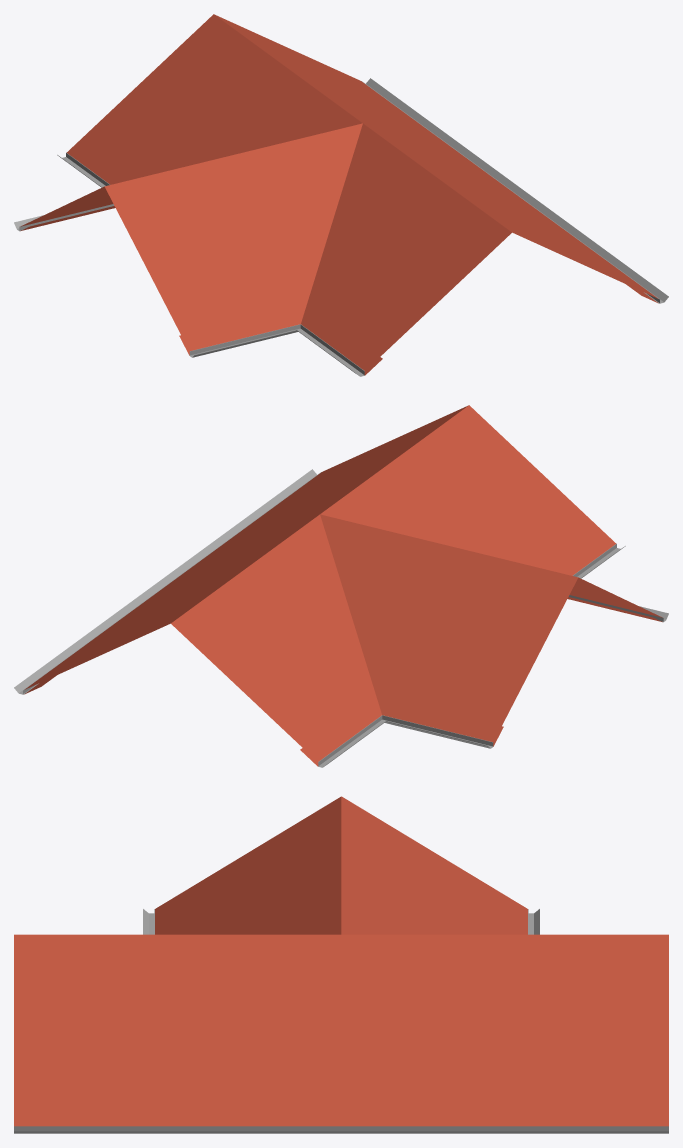
Rendered from MESH_ENV(Telhado_12x9_Formato_T).fbx.
The picture shows the model from 3 angles, top to bottom: view 1: azimuth 30°, elevation 25°; view 2: azimuth 150°, elevation 25°; view 3: azimuth 270°, elevation 25°; orthographic projection. The views are drawn at different scales.
Parts seen in each view (by area): view 1: MESH_ENV(Telhado_12x9_Formato_T)_LOD0; view 2: MESH_ENV(Telhado_12x9_Formato_T)_LOD0; view 3: MESH_ENV(Telhado_12x9_Formato_T)_LOD0.
Part boxes in pixels (x1,y1,x2,y2): MESH_ENV(Telhado_12x9_Formato_T)_LOD0: [14, 14, 668, 376]; MESH_ENV(Telhado_12x9_Formato_T)_LOD0: [14, 405, 668, 767]; MESH_ENV(Telhado_12x9_Formato_T)_LOD0: [14, 796, 668, 1133].
Bounding box in the file's own units: 964 × 238 × 1200.
